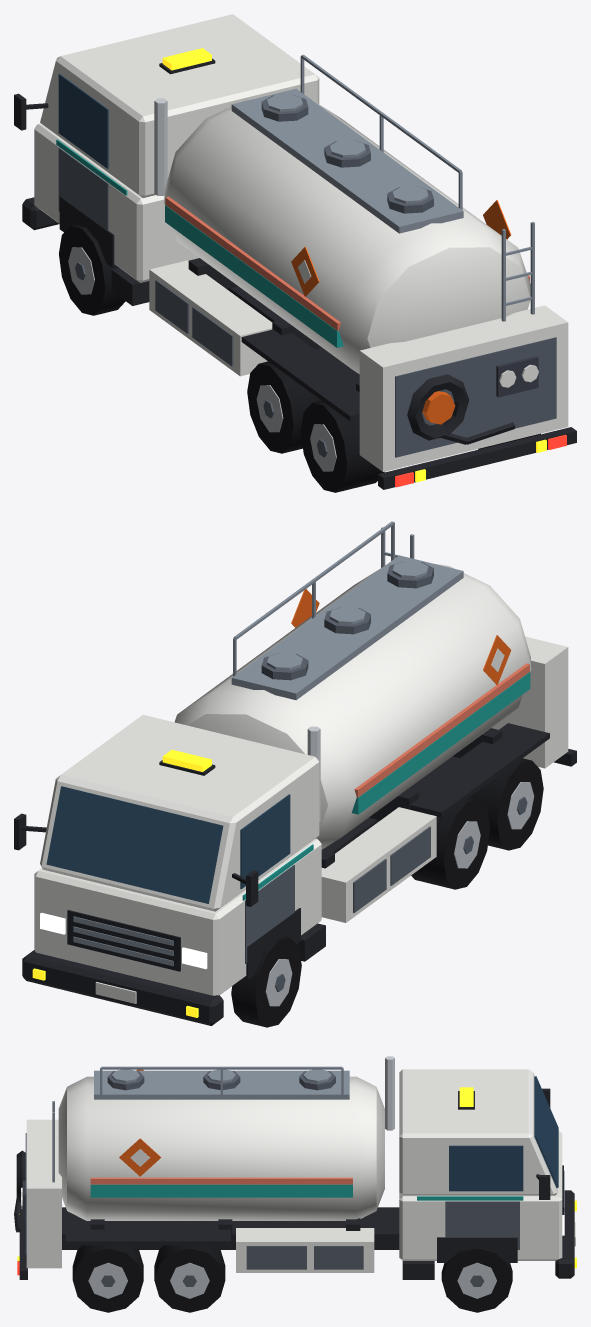
File: fuel_truck_static.glb
3 views of the same model, one above another, from view 1: azimuth 30°, elevation 25°; view 2: azimuth 150°, elevation 25°; view 3: azimuth 270°, elevation 25° (orthographic). The views are drawn at different scales.
Visible parts, largest first — view 1: Truck; view 2: Truck; view 3: Truck.
Part boxes in pixels (left/top/right/bottom): Truck: left=14, top=14, right=576, bottom=492; Truck: left=14, top=521, right=576, bottom=1027; Truck: left=14, top=1056, right=576, bottom=1312.
Size of the model in its own units: 2.94 by 3.45 by 7.93.
